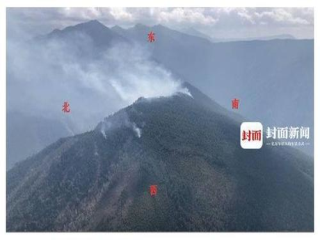smoke: (75, 46, 196, 142)
